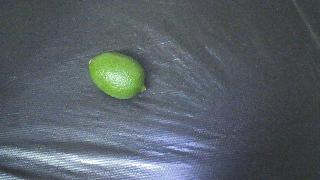LOCAL: (89, 52, 146, 99)
